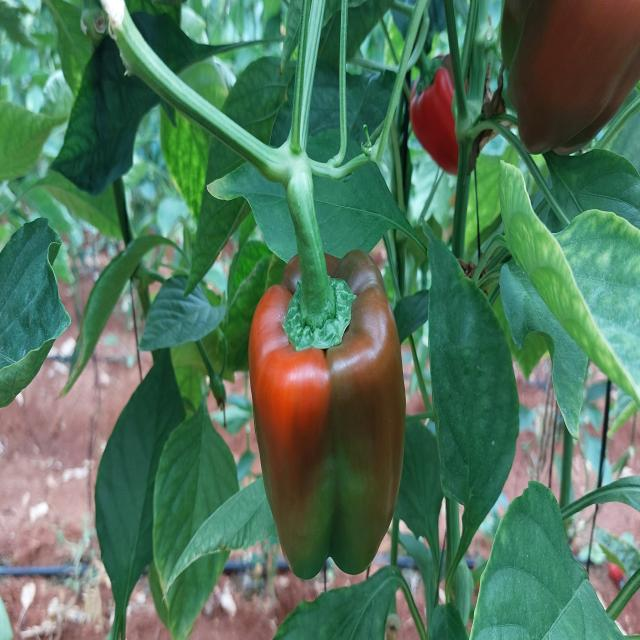BrownishRed--Can-be-Harvested: (262, 268, 402, 584), (503, 1, 640, 155)
